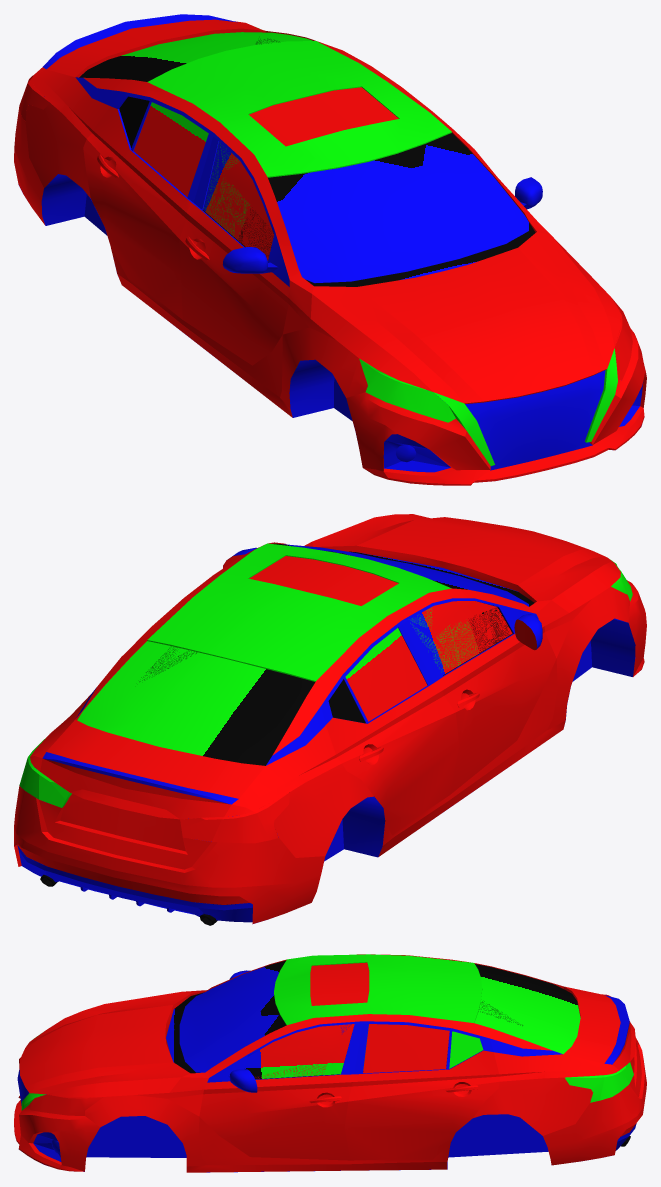
Rendered from sedan-lod1.glb.
3 views of the same model, one above another, from view 1: azimuth 30°, elevation 25°; view 2: azimuth 150°, elevation 25°; view 3: azimuth 270°, elevation 25° (orthographic). The views are drawn at different scales.
Visible parts, largest first — view 1: body; view 2: body; view 3: body.
Boxes of the visible parts, box(x1,y1,x2,y2) form: body: box(14, 14, 646, 485); body: box(14, 514, 646, 925); body: box(14, 954, 646, 1172).
Bounding box in the file's own units: 2.05 × 1.23 × 4.89.
Materials: 3 (3 with a texture image).
